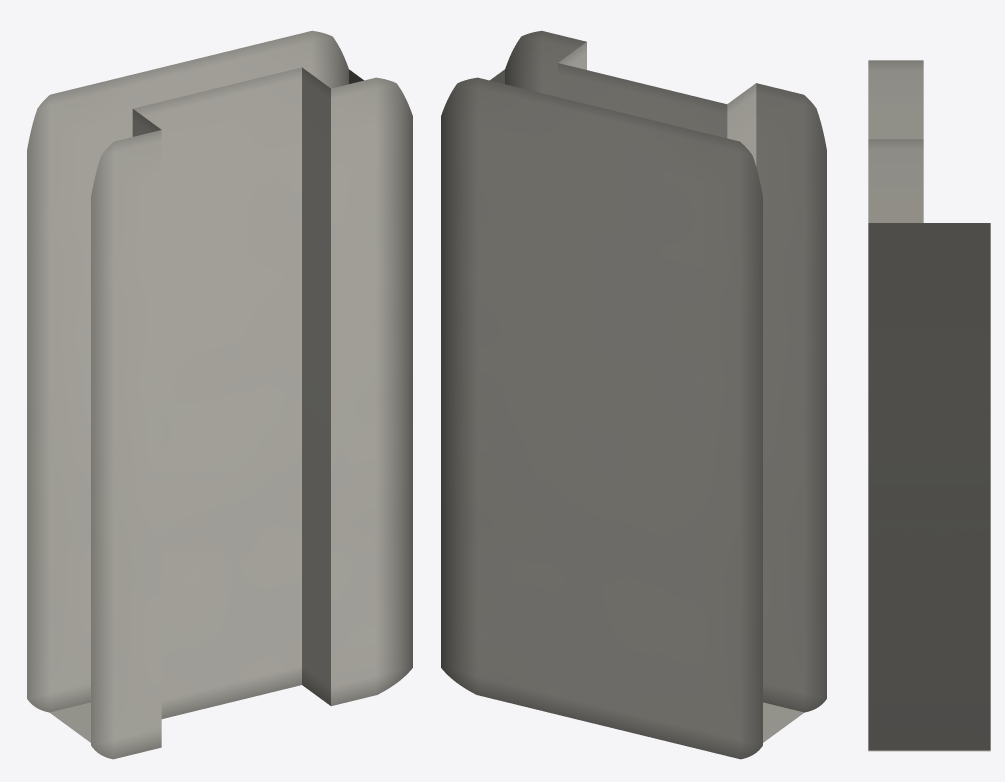
The model's file is SM_EC_Telephone_base_0.fbx.
3 renders of one model, left to right at view 1: azimuth 30°, elevation 25°; view 2: azimuth 150°, elevation 25°; view 3: azimuth 270°, elevation 25°, orthographic. The views are drawn at different scales.
Parts seen in each view (by area): view 1: SM_EC_Telephone_base_0; view 2: SM_EC_Telephone_base_0; view 3: SM_EC_Telephone_base_0.
Part boxes in pixels (bbox=[...]): SM_EC_Telephone_base_0: bbox=[27, 30, 412, 759]; SM_EC_Telephone_base_0: bbox=[441, 30, 826, 759]; SM_EC_Telephone_base_0: bbox=[868, 60, 990, 751].
Size of the model in its own units: 0.2795 by 0.0926 by 0.499.
